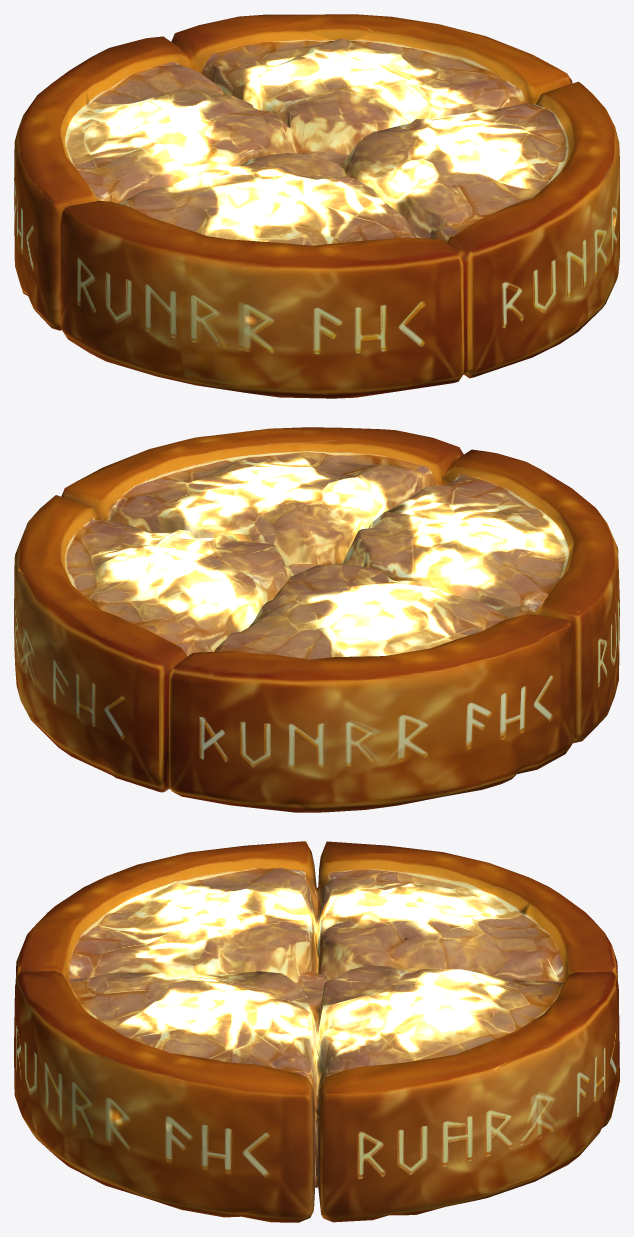
The model's file is Meshy_AI_Amber_Crystalline_Ash_0506175019_texture.fbx.
The picture shows the model from 3 angles, top to bottom: view 1: azimuth 30°, elevation 25°; view 2: azimuth 150°, elevation 25°; view 3: azimuth 270°, elevation 25°; orthographic projection.
Visible parts, largest first — view 1: Mesh_0; view 2: Mesh_0; view 3: Mesh_0.
Boxes of the visible parts, bbox=[...] form: Mesh_0: bbox=[14, 14, 619, 398]; Mesh_0: bbox=[14, 427, 619, 812]; Mesh_0: bbox=[14, 841, 619, 1222].
Bounding box in the file's own units: 190 × 51.63 × 190.
Materials: 1 (1 with a texture image).
